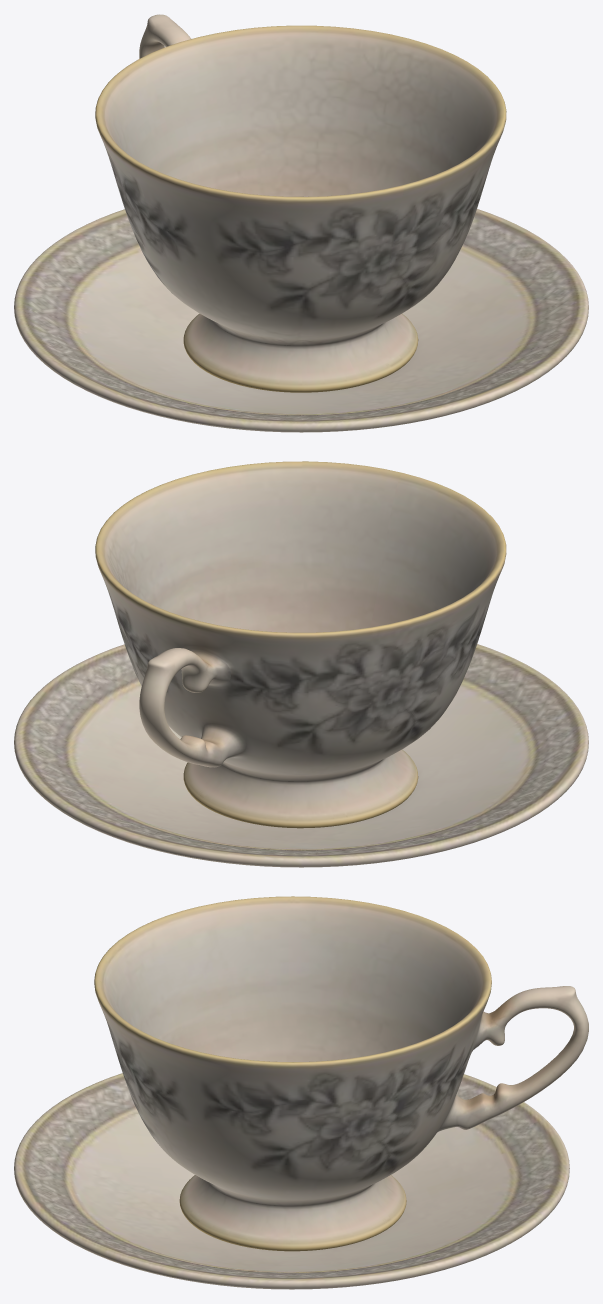
The model's file is DiffuseTransmissionTeacup.glb.
The picture shows the model from 3 angles, top to bottom: view 1: azimuth 30°, elevation 25°; view 2: azimuth 150°, elevation 25°; view 3: azimuth 270°, elevation 25°; orthographic projection. The views are drawn at different scales.
Parts seen in each view (by area): view 1: tea_cup, tea_saucer; view 2: tea_cup, tea_saucer; view 3: tea_cup, tea_saucer.
Part boxes in pixels (x1,y1,x2,y2): tea_cup: (95, 14, 506, 392); tea_saucer: (14, 209, 588, 432); tea_cup: (95, 461, 506, 828); tea_saucer: (14, 644, 588, 867); tea_cup: (94, 896, 588, 1251); tea_saucer: (14, 1073, 569, 1289).
Size of the model in its own units: 0.1486 by 0.0704 by 0.1537.
Materials: 2 (2 with a texture image).
